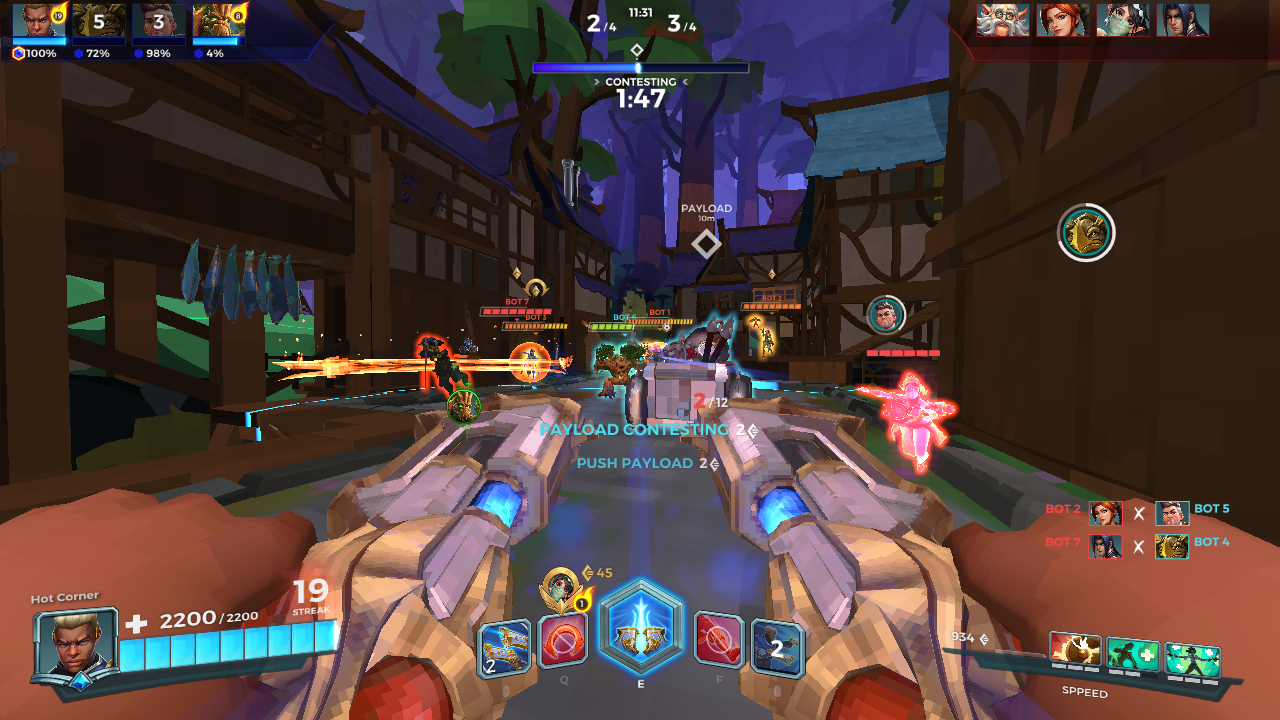model: (416, 330, 469, 392), (519, 343, 544, 386), (754, 320, 777, 357)
